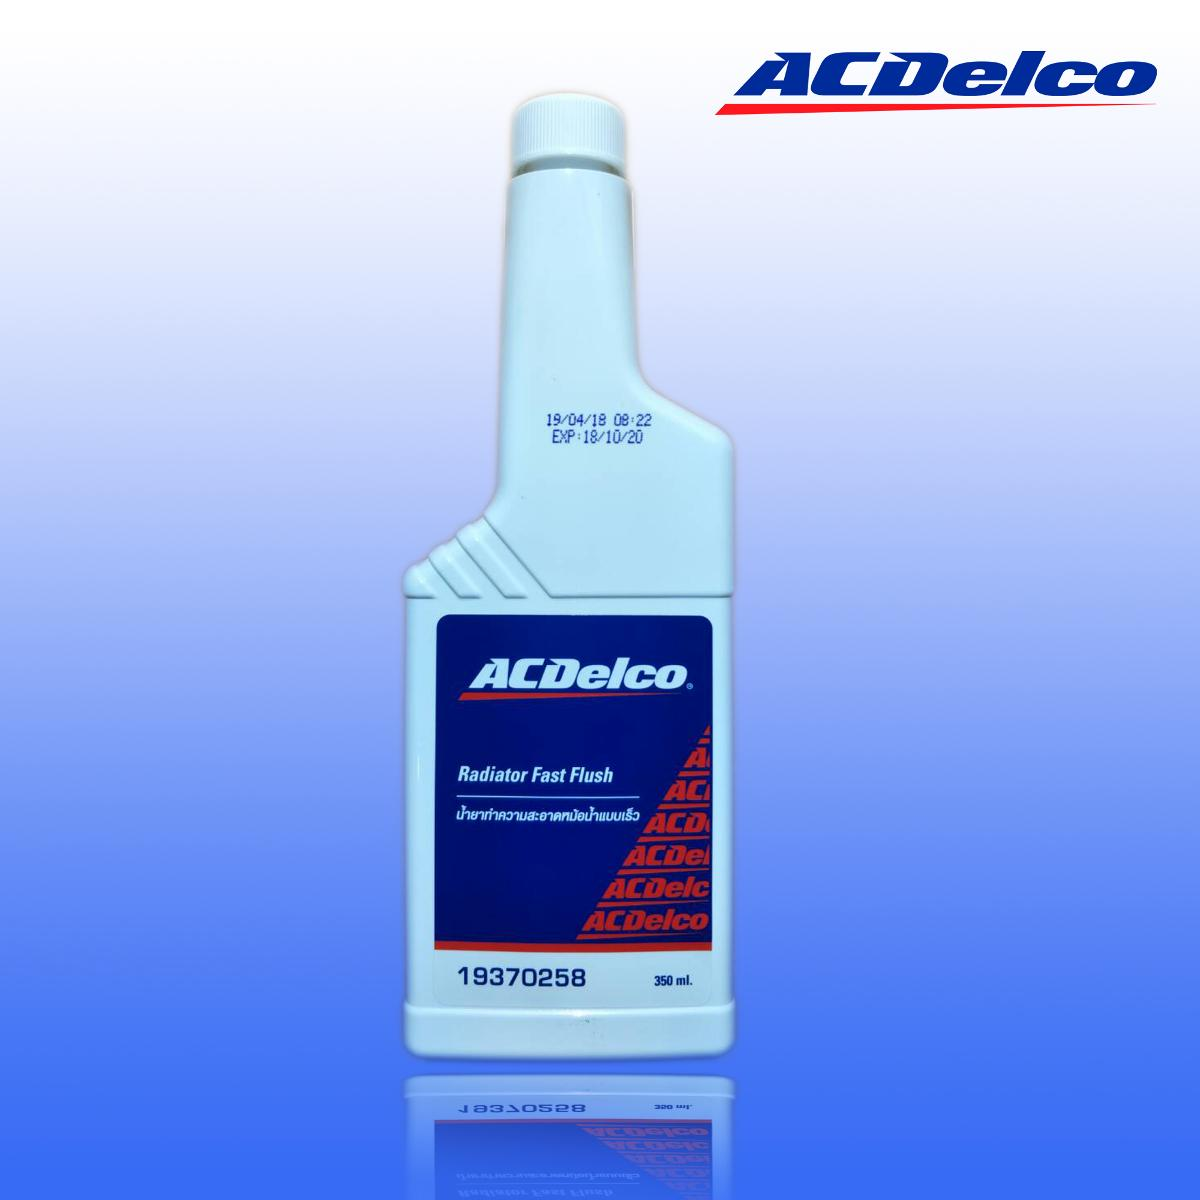Cleaning_solution: (382, 84, 752, 1075)
